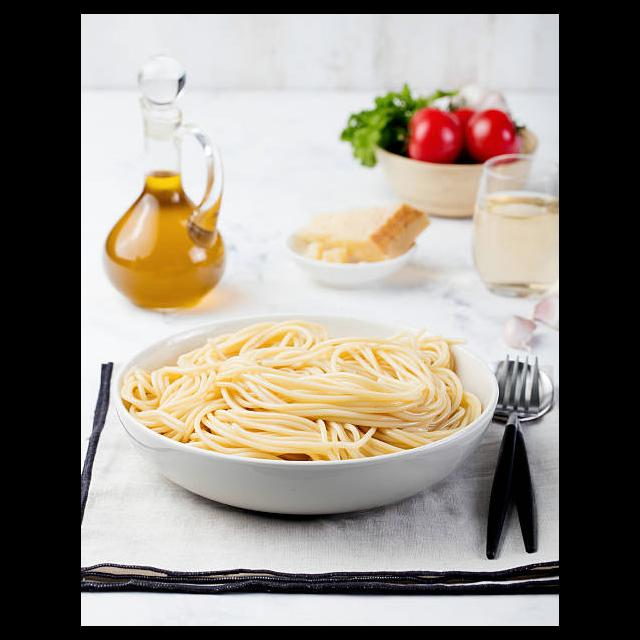noodles: (121, 319, 484, 461)
